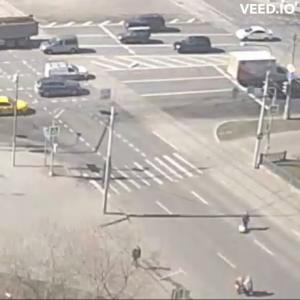car: (225, 51, 297, 84), (1, 14, 41, 46), (39, 81, 92, 100), (114, 29, 157, 52), (176, 36, 223, 56), (36, 38, 87, 55), (124, 14, 176, 28), (48, 65, 90, 82), (236, 27, 279, 43), (1, 98, 26, 121)
